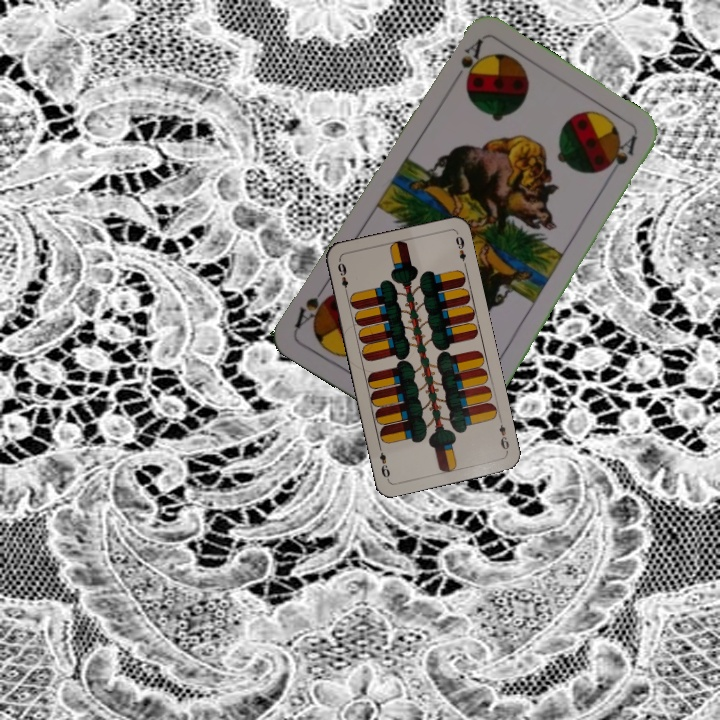E9: (495, 414, 512, 455), (333, 259, 351, 297)
SA: (447, 34, 486, 88)
